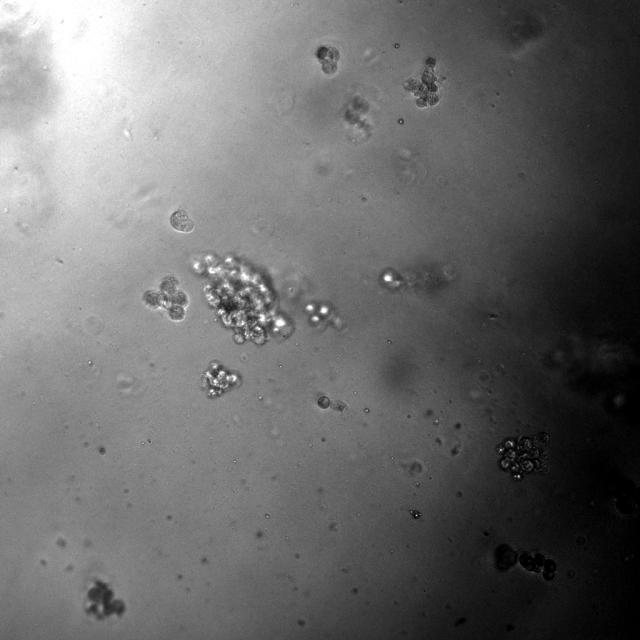organoid: (193, 254, 292, 344), (496, 432, 549, 481), (142, 276, 189, 321), (404, 57, 444, 106), (84, 578, 125, 620), (200, 360, 241, 398), (518, 552, 557, 581), (305, 301, 332, 328), (316, 45, 339, 75), (379, 267, 406, 290), (170, 210, 194, 232), (318, 395, 330, 409)
